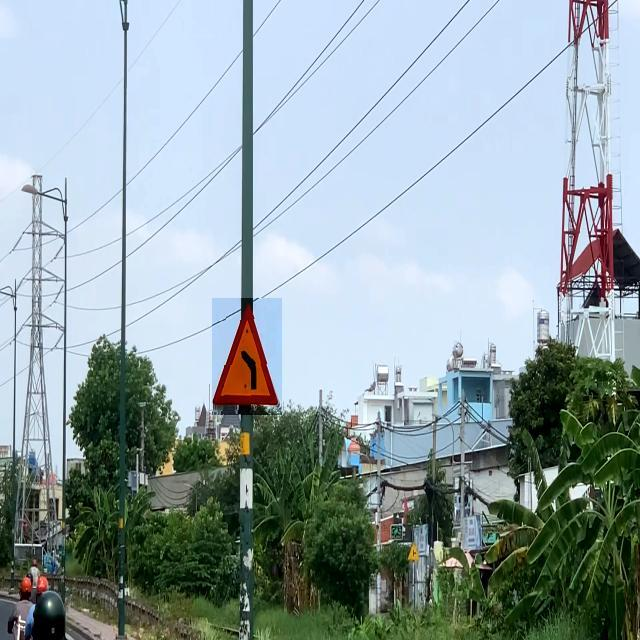W-201a: (213, 298, 283, 415)
